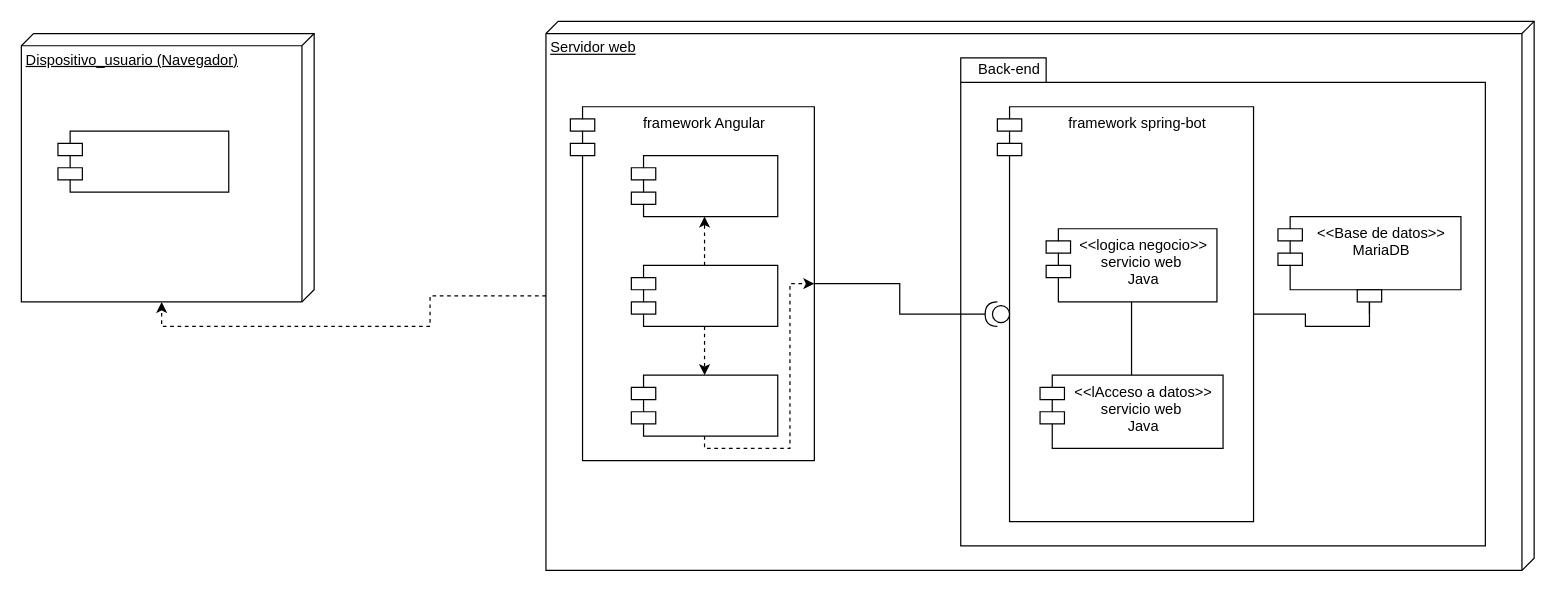
The diagram is 1556 pixels wide and 592 high, and some of its shapes have lost their labels. The shapes that lost their labels are listed below. From the top down, each one's centre as x and y in pixels, then its label:
At (x=143, y=161): "Crome".
At (x=704, y=185): "Vista(HTML+Css)".
At (x=704, y=295): "Controlador (JS)".
At (x=704, y=405): "Modelo".
